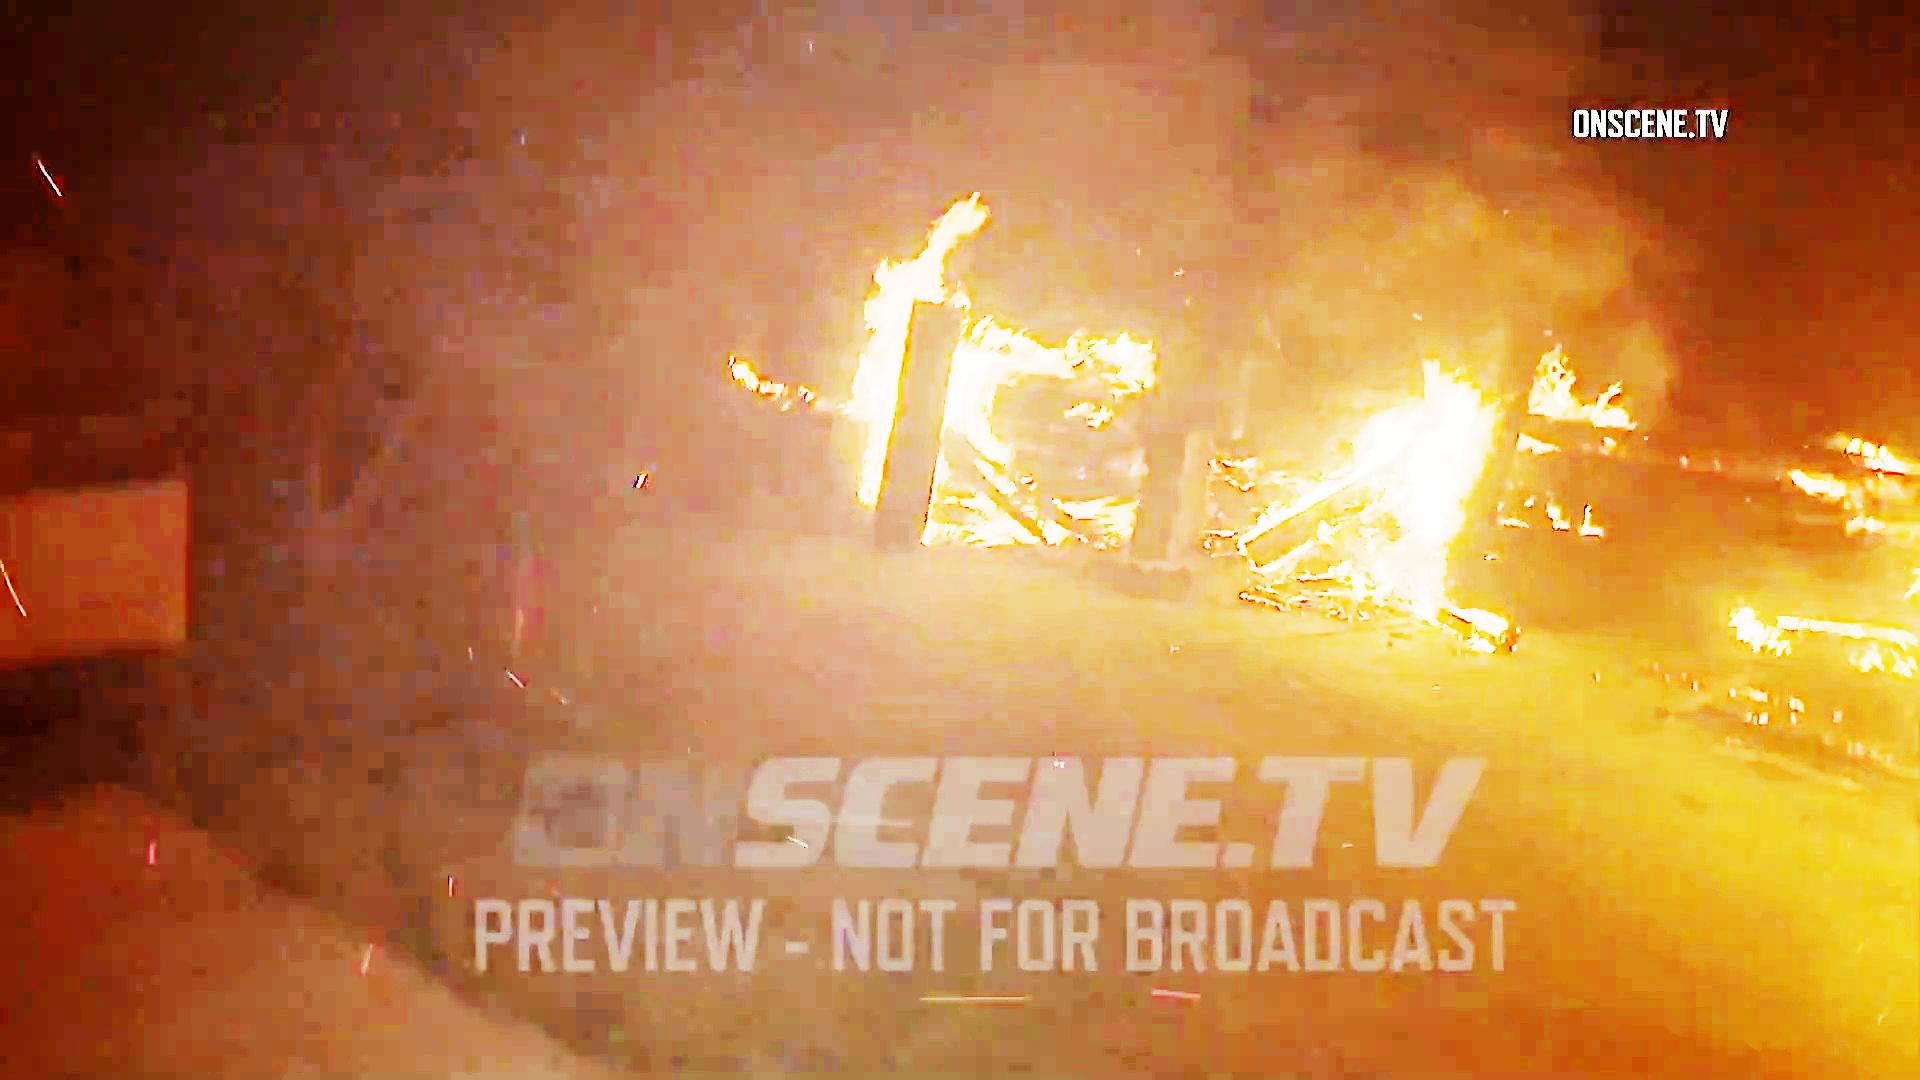fire: (831, 233, 1137, 542), (1250, 328, 1458, 622)
